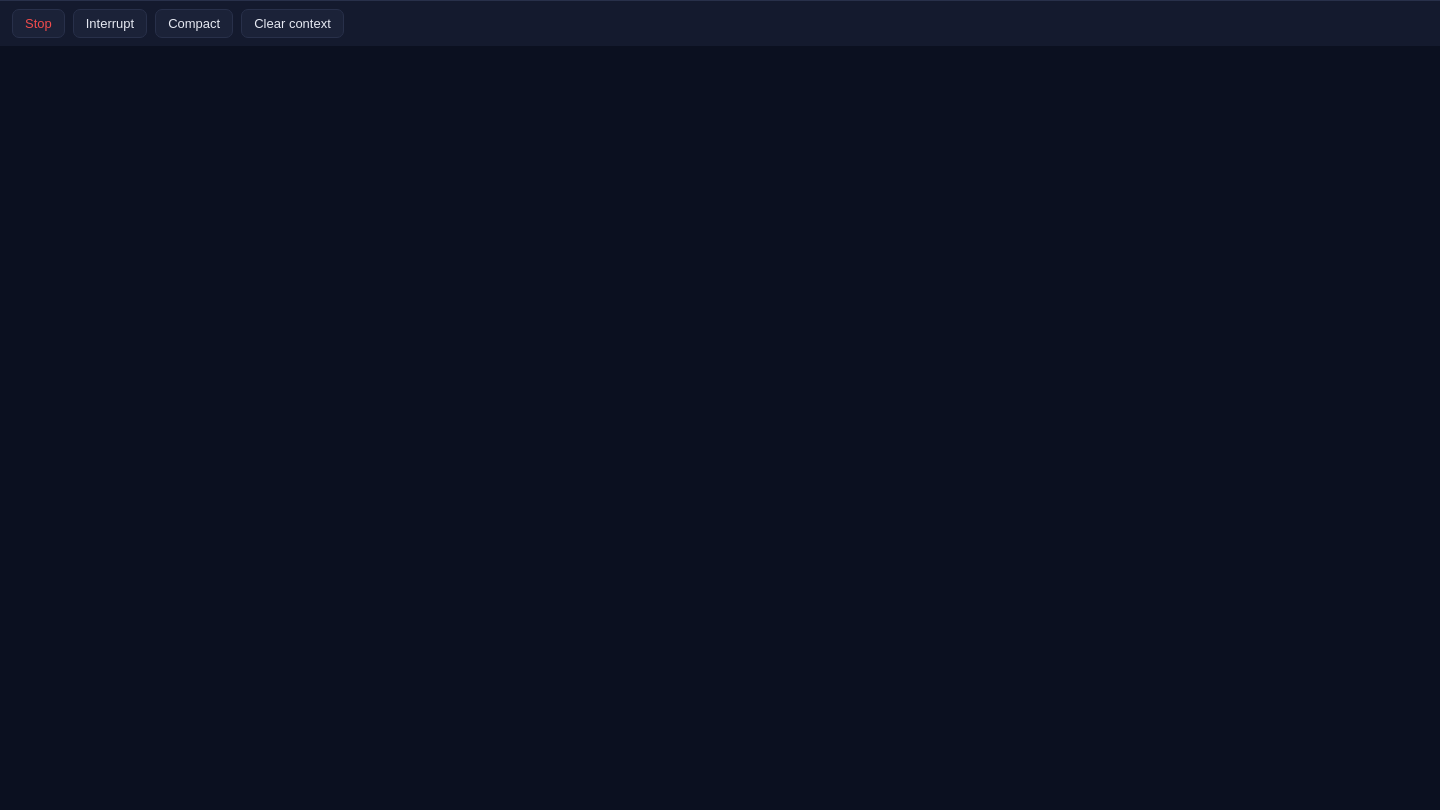
Test: Compact button › shows the Gateway's own sentence, verbatim
Click the button with class "act-btn" showing "Compact" at (194, 24), box [155,9,233,38]
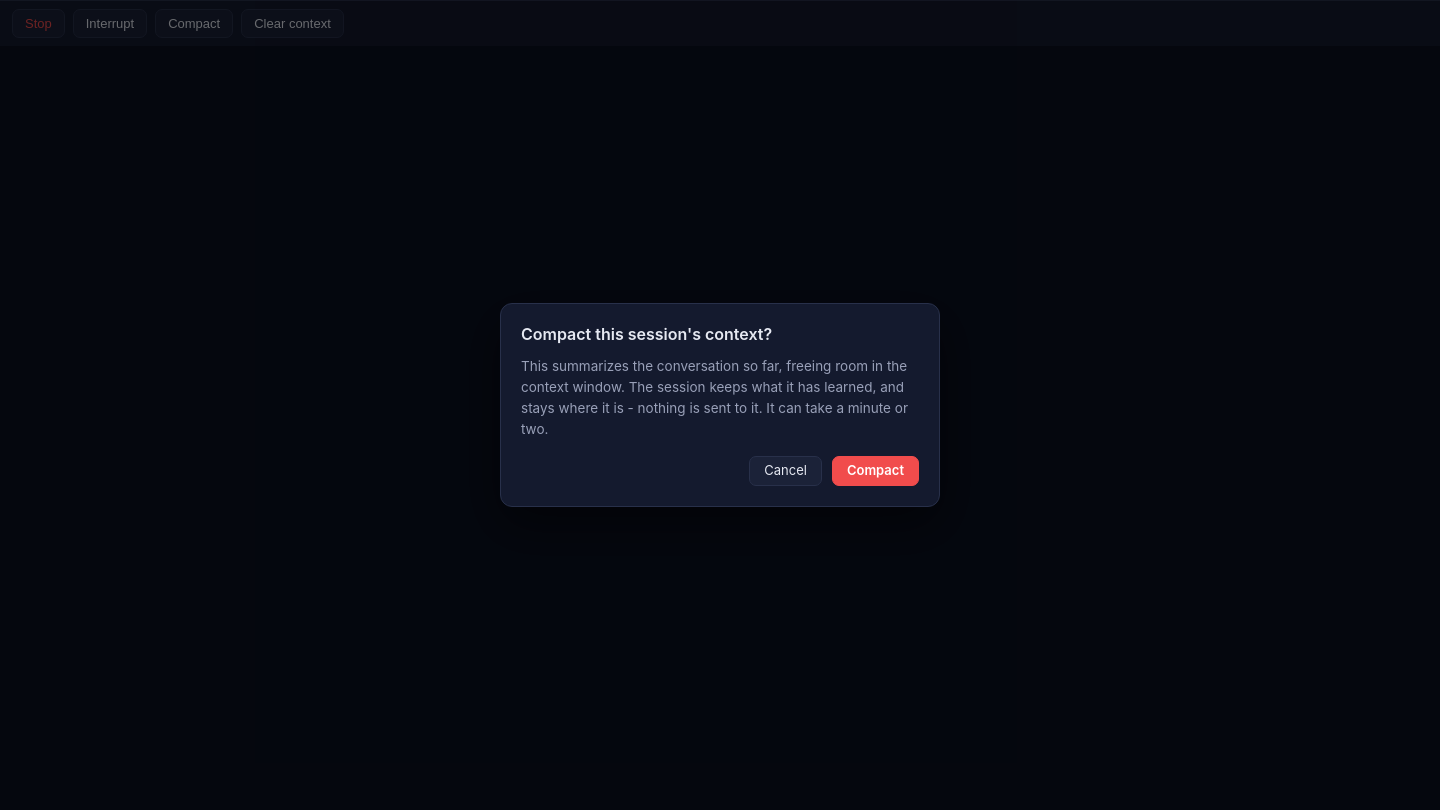
Result: the dialog with class "ui-confirm" is shown at [500,303,940,507]
Click the button "Compact" below "Compact this session's context?" at (875, 471), box [832,456,919,486]
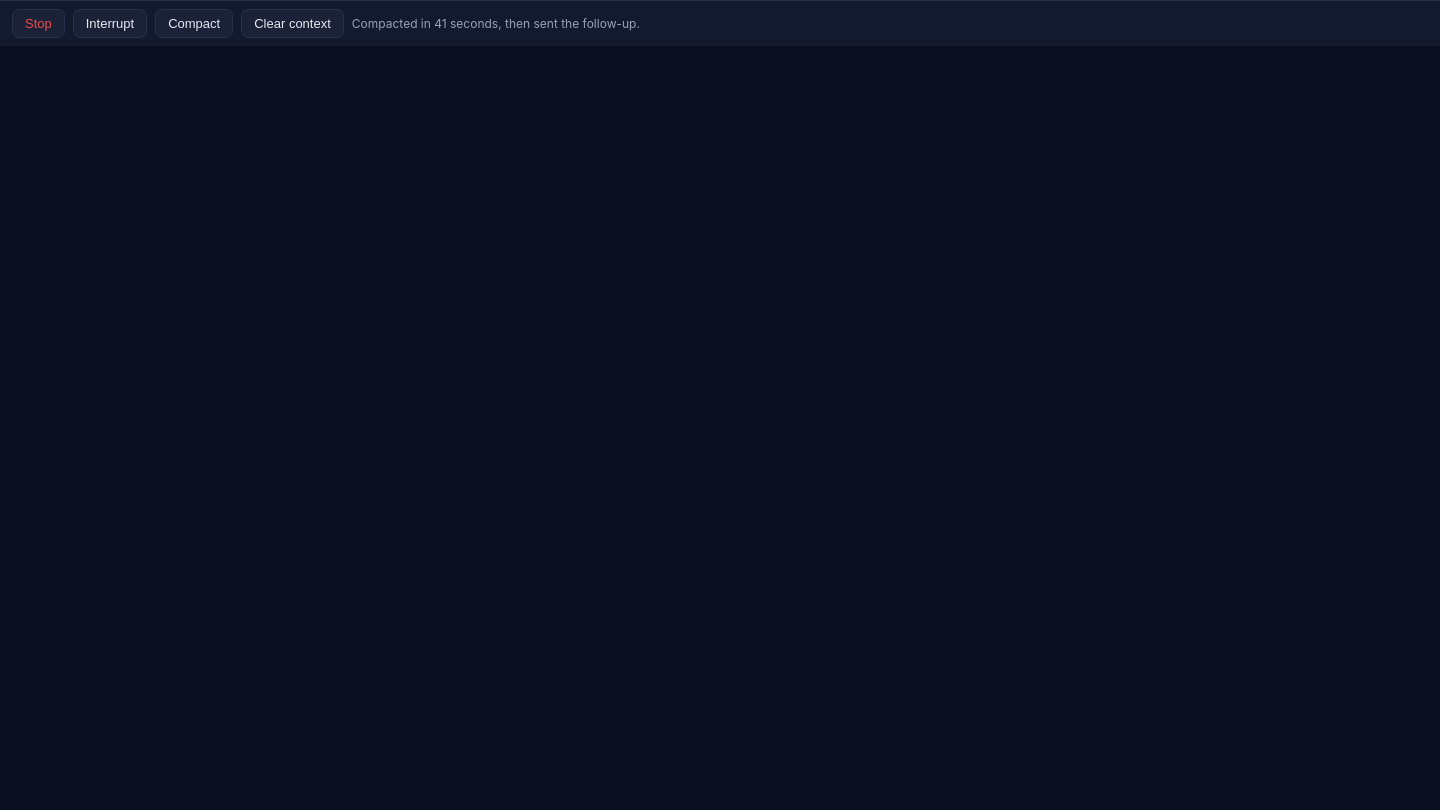
Result: the text "Compacted in 41 seconds, then sent the follow-up." is shown at [352,16,640,31]
